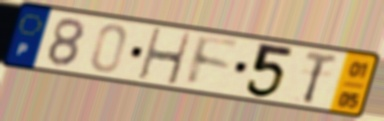0: (88, 22, 129, 75)
5: (243, 42, 298, 101)
8: (46, 16, 87, 69)
F: (185, 33, 242, 89)
H: (136, 26, 194, 87)
T: (300, 49, 341, 106)
